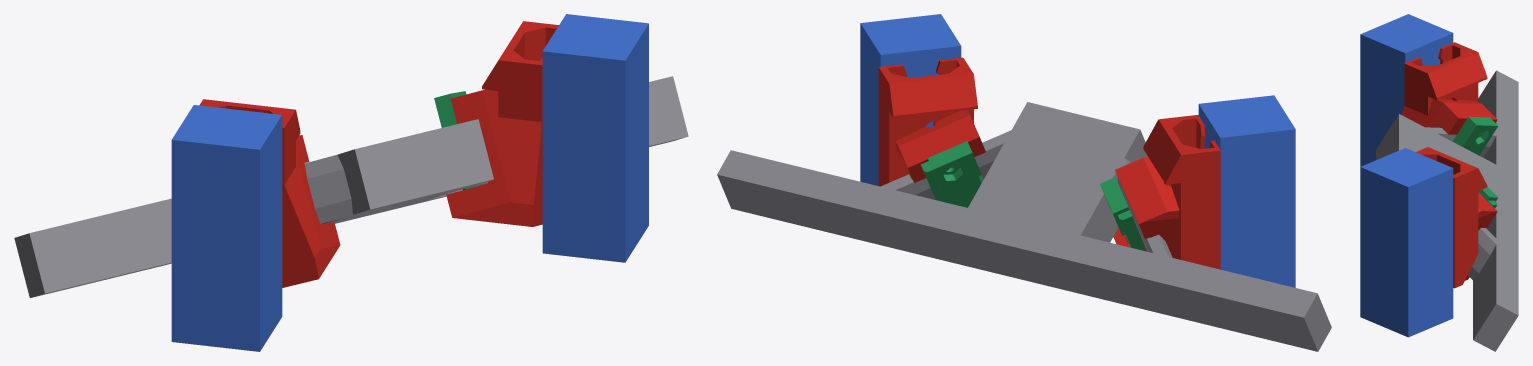
The model's file is assembly_m18.obj.
3 views of the same model, side by side, from view 1: azimuth 30°, elevation 25°; view 2: azimuth 150°, elevation 25°; view 3: azimuth 270°, elevation 25° (orthographic). The views are drawn at different scales.
Parts seen in each view (by area): view 1: left_light_placeholder, right_light_placeholder, hanger_schematic, right_saddle, left_saddle, right_keeper; view 2: hanger_schematic, left_light_placeholder, left_saddle, right_saddle, right_light_placeholder, right_keeper, left_keeper; view 3: right_light_placeholder, hanger_schematic, left_light_placeholder, left_saddle, right_saddle, left_keeper, right_keeper.
Part boxes in pixels (box(x1,y1,x2,y2)): left_light_placeholder: box(171, 105, 282, 351); right_light_placeholder: box(542, 14, 648, 262); hanger_schematic: box(14, 76, 688, 297); right_saddle: box(446, 21, 558, 226); left_saddle: box(199, 99, 340, 287); right_keeper: box(434, 91, 481, 189); hanger_schematic: box(717, 102, 1331, 351); left_light_placeholder: box(1198, 95, 1295, 287); left_saddle: box(1113, 115, 1220, 269); right_saddle: box(878, 57, 985, 186); right_light_placeholder: box(860, 14, 961, 185); right_keeper: box(921, 141, 983, 207); left_keeper: box(1100, 177, 1146, 251); right_light_placeholder: box(1360, 148, 1453, 337); hanger_schematic: box(1376, 70, 1518, 351); left_light_placeholder: box(1360, 14, 1453, 166); left_saddle: box(1401, 42, 1497, 134); right_saddle: box(1416, 147, 1497, 288); left_keeper: box(1452, 116, 1497, 155); right_keeper: box(1478, 187, 1498, 208).
Size of the model in its own units: 260 by 78 by 74.52.
